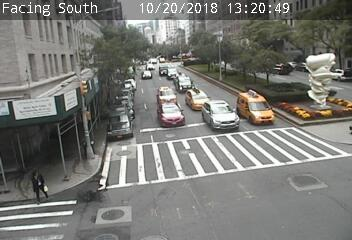car: (237, 92, 273, 125), (202, 100, 239, 131), (158, 103, 184, 127), (185, 89, 212, 111), (157, 87, 176, 104), (176, 76, 195, 92), (173, 73, 187, 85), (167, 68, 179, 80), (159, 65, 170, 76), (142, 70, 151, 79), (146, 64, 154, 71)
